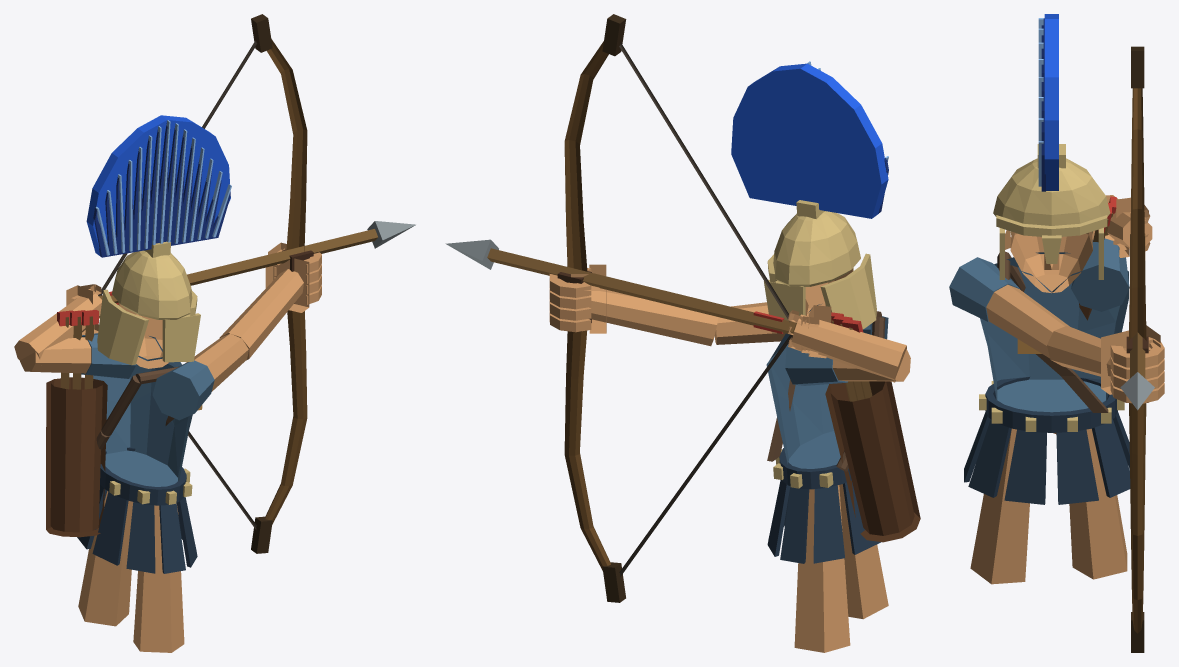
Rendered from romanSoldier_longbow_blue.glb.
3 renders of one model, left to right at view 1: azimuth 30°, elevation 25°; view 2: azimuth 150°, elevation 25°; view 3: azimuth 270°, elevation 25°, orthographic. The views are drawn at different scales.
Visible parts, largest first — view 1: Helmet_Galea.002, n75, n3, soldier-crest-feathers, soldier-crest, Skirt_Ten_Separated_Lames.002, soldier-crest-stems, n24, n27, n54, n59, Forearm_L (+14 smaller); view 2: soldier-crest, n75, Helmet_Galea.002, Skirt_Ten_Separated_Lames.002, n27, n3, Forearm_L, n68, n59, Forearm_R, n54, n24 (+11 smaller); view 3: Skirt_Ten_Separated_Lames.002, Helmet_Galea.002, n3, n24, n27, n54, n7, n59, n18, Closed_gripping_hand_L, Short_blue_sleeve_R, Waist_Belt.002 (+12 smaller).
Boxes of the visible parts, box(x1,y1,x2,y2) form: Helmet_Galea.002: box(97, 241, 200, 504); n75: box(46, 377, 107, 537); n3: box(93, 336, 192, 486); soldier-crest-feathers: box(93, 123, 230, 257); soldier-crest: box(86, 115, 230, 257); Skirt_Ten_Separated_Lames.002: box(77, 485, 197, 573); soldier-crest-stems: box(95, 120, 231, 255); n24: box(133, 504, 184, 652); n27: box(78, 491, 133, 626); n54: box(267, 39, 307, 251); n59: box(265, 310, 307, 524); Forearm_L: box(219, 269, 303, 360); soldier-crest: box(731, 63, 888, 218); n75: box(825, 381, 920, 542); Helmet_Galea.002: box(764, 200, 876, 488); Skirt_Ten_Separated_Lames.002: box(767, 480, 881, 563); n27: box(794, 485, 850, 652); n3: box(766, 304, 888, 468); Forearm_L: box(589, 288, 718, 346); n68: box(487, 248, 796, 334); n59: box(564, 330, 610, 570); Forearm_R: box(791, 314, 906, 382); n54: box(564, 41, 608, 271); n24: box(839, 484, 888, 619); Skirt_Ten_Separated_Lames.002: box(964, 411, 1130, 504); Helmet_Galea.002: box(979, 144, 1124, 431); n3: box(980, 252, 1128, 412); n24: box(970, 428, 1029, 584); n27: box(1069, 428, 1127, 579); n54: box(1128, 88, 1146, 340); n7: box(1005, 230, 1092, 293); n59: box(1129, 403, 1146, 633); n18: box(986, 284, 1069, 358); Closed_gripping_hand_L: box(1101, 325, 1164, 403); Short_blue_sleeve_R: box(1071, 238, 1129, 311); Waist_Belt.002: box(985, 376, 1117, 432).
Bounding box in the file's own units: 0.978 × 1.25 × 0.3966.
